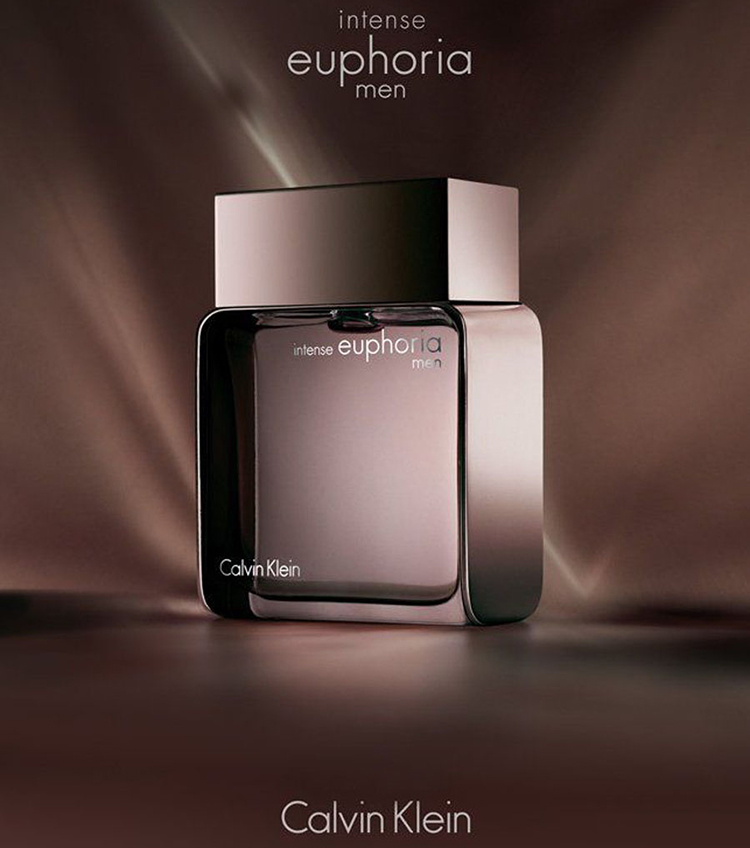Calvin Klein: (273, 792, 477, 839), (214, 549, 308, 581)
